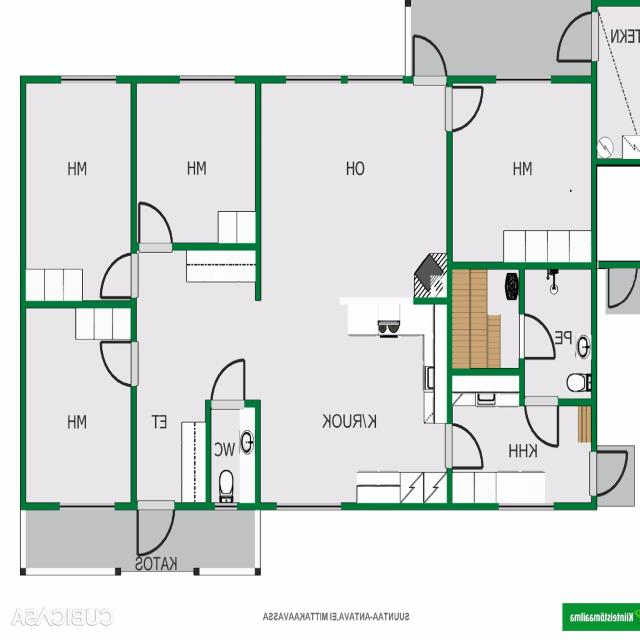door: (138, 502, 174, 558), (556, 13, 598, 60), (519, 313, 558, 358), (139, 198, 172, 250), (592, 451, 630, 495), (447, 423, 485, 467), (98, 254, 136, 298), (526, 398, 558, 450), (98, 342, 136, 385), (414, 32, 446, 83), (212, 356, 244, 407), (447, 87, 484, 130), (609, 262, 637, 307)
